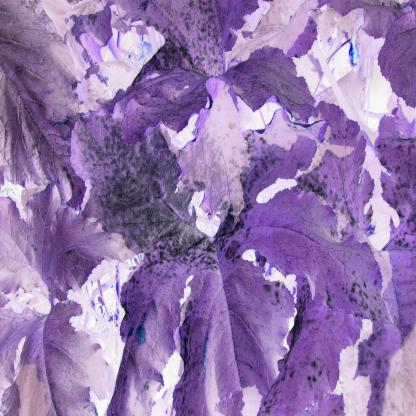Squash Powdery mildew leaf: (65, 103, 391, 416), (2, 0, 102, 195), (106, 0, 262, 72), (223, 43, 329, 128), (106, 64, 214, 136)
